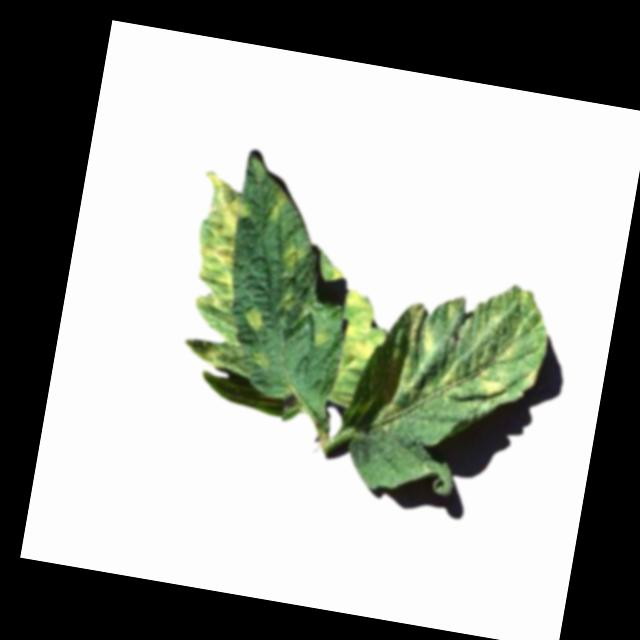Leaf_Mold: (180, 168, 253, 337), (334, 287, 394, 375), (275, 229, 311, 282), (476, 362, 514, 402), (417, 320, 444, 357), (242, 303, 270, 332), (519, 359, 541, 390)
